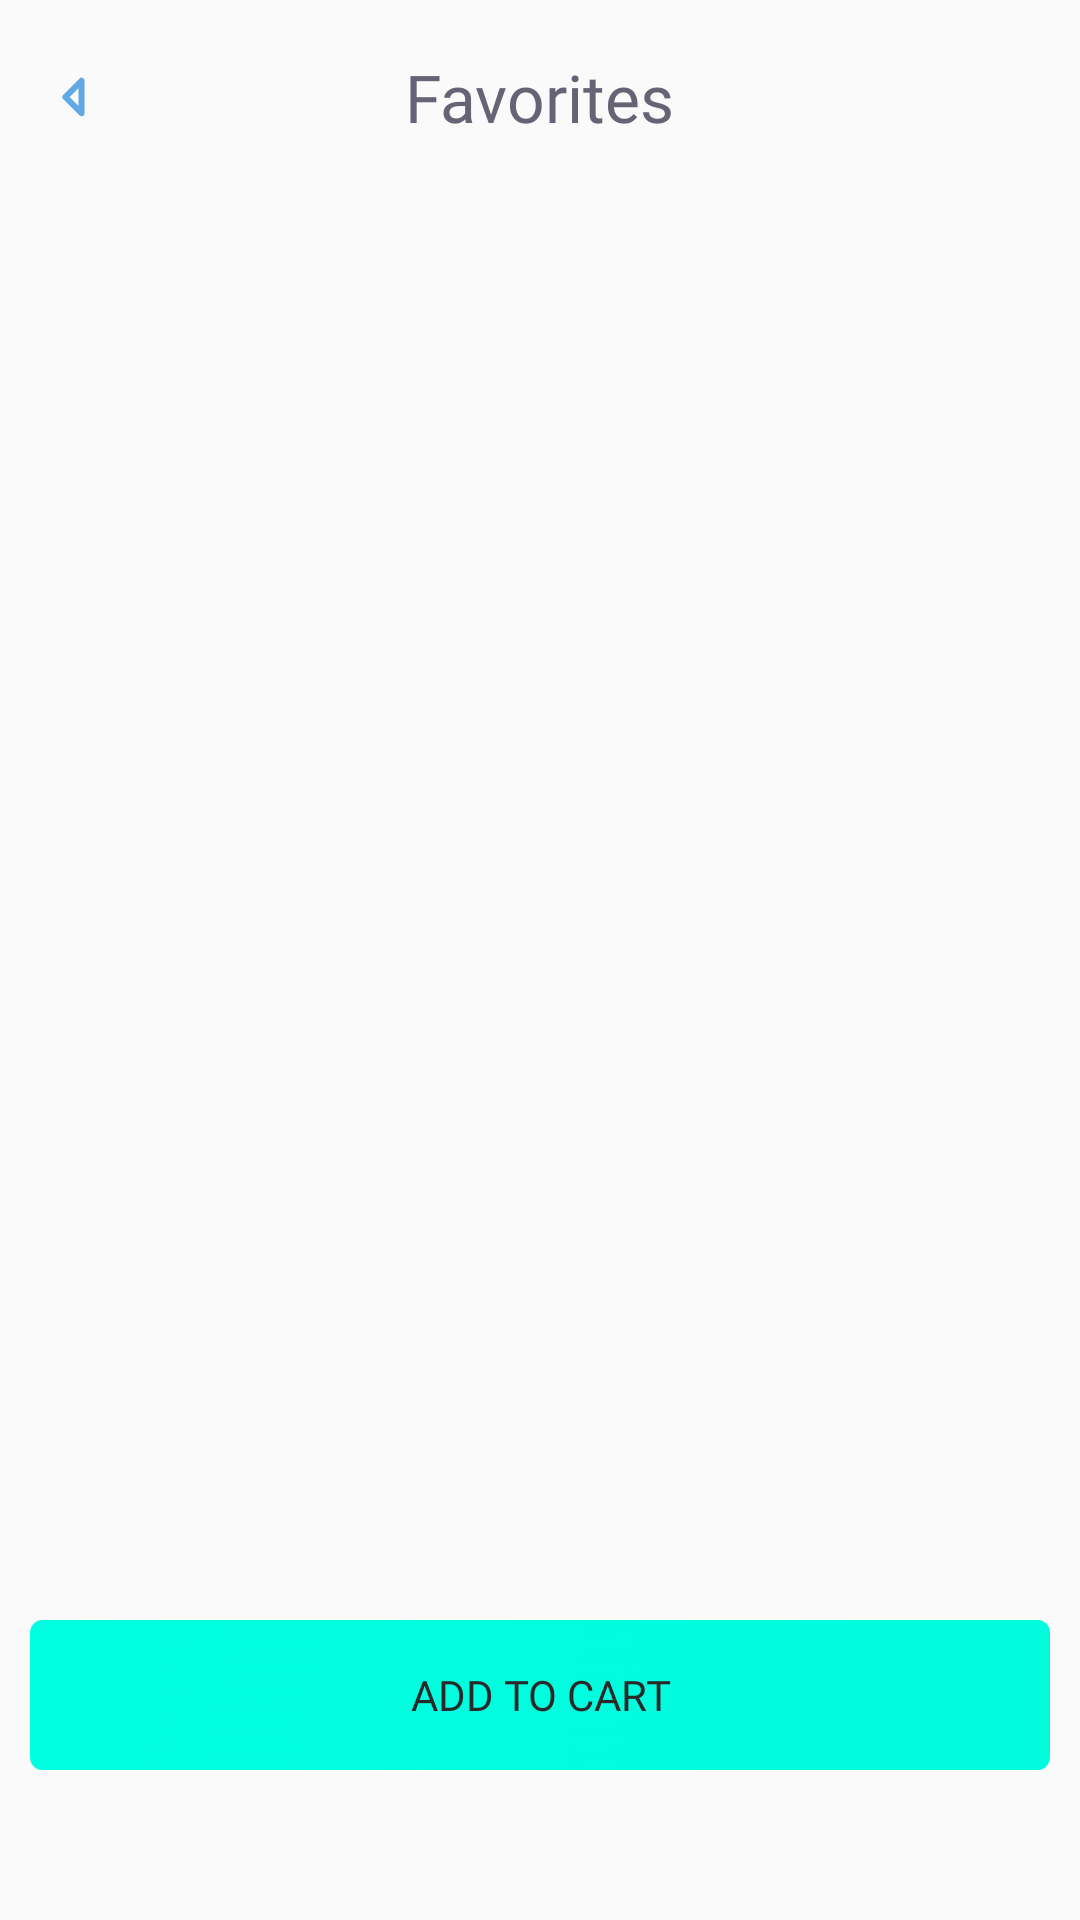

Where to tap for icons on this 1080×1920 app screen, as (x,y):
backbtn: (73,97)
